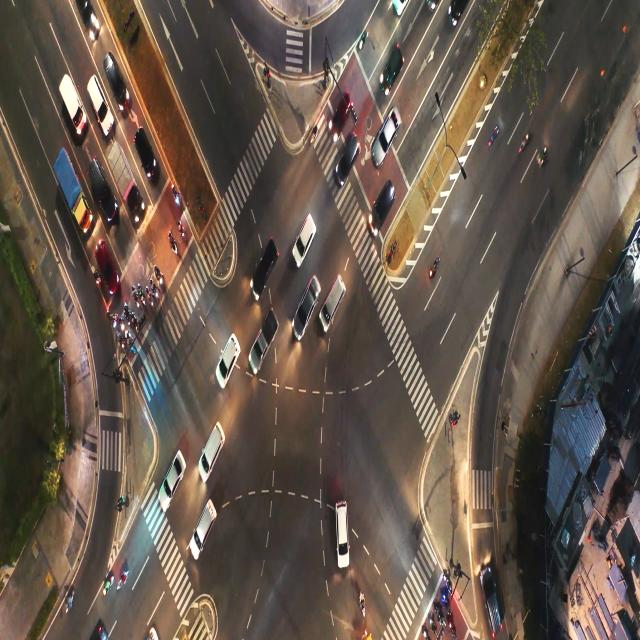car: (255, 324, 271, 362), (332, 513, 352, 543), (300, 282, 313, 324), (163, 464, 176, 498), (256, 254, 273, 278), (328, 285, 342, 314), (486, 584, 498, 612), (300, 222, 318, 240), (378, 193, 392, 216), (92, 85, 102, 115), (210, 427, 220, 456), (383, 119, 394, 145), (221, 352, 235, 372), (198, 517, 208, 542), (111, 60, 120, 86), (333, 108, 348, 123), (142, 132, 150, 160), (342, 146, 351, 168), (100, 170, 106, 202), (103, 249, 111, 270), (388, 65, 399, 76)
motorcycle: (100, 576, 112, 600), (66, 589, 76, 614), (427, 263, 437, 283), (154, 263, 162, 285), (117, 570, 126, 586), (443, 575, 452, 588), (146, 284, 150, 312), (360, 33, 366, 50), (311, 125, 317, 141), (133, 314, 139, 329), (139, 281, 143, 302), (440, 596, 448, 606), (449, 610, 453, 630), (180, 224, 185, 240), (108, 309, 112, 328), (170, 232, 173, 255), (152, 288, 160, 295), (132, 287, 137, 297), (123, 306, 128, 316), (429, 614, 433, 626), (360, 596, 363, 610), (174, 187, 176, 201), (117, 315, 119, 326), (96, 272, 97, 282)
truck: (64, 85, 75, 126), (64, 172, 81, 196), (118, 162, 129, 194)
